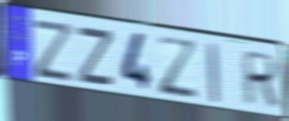4: (119, 29, 156, 97)
I: (205, 40, 222, 106)
R: (242, 49, 281, 109)
Z: (155, 33, 200, 100), (32, 16, 75, 84), (77, 26, 115, 90)
